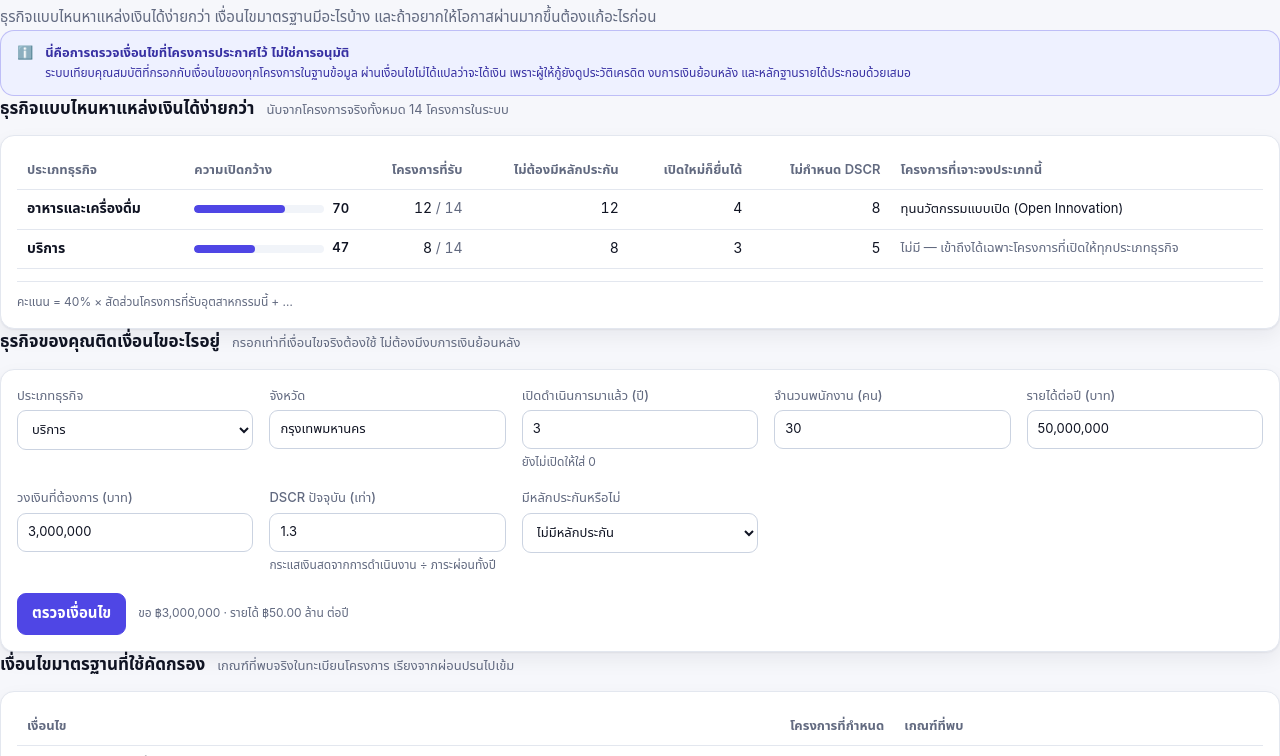
ผลรวมและรายโครงการ › บอกเหตุผลรายข้อของโครงการที่ยังไม่ผ่าน ไม่ใช่แค่ว่าไม่ผ่าน
Click the button "ตรวจเงื่อนไข". click: (72, 614)
box: [17, 593, 126, 635]
(page scrolled)
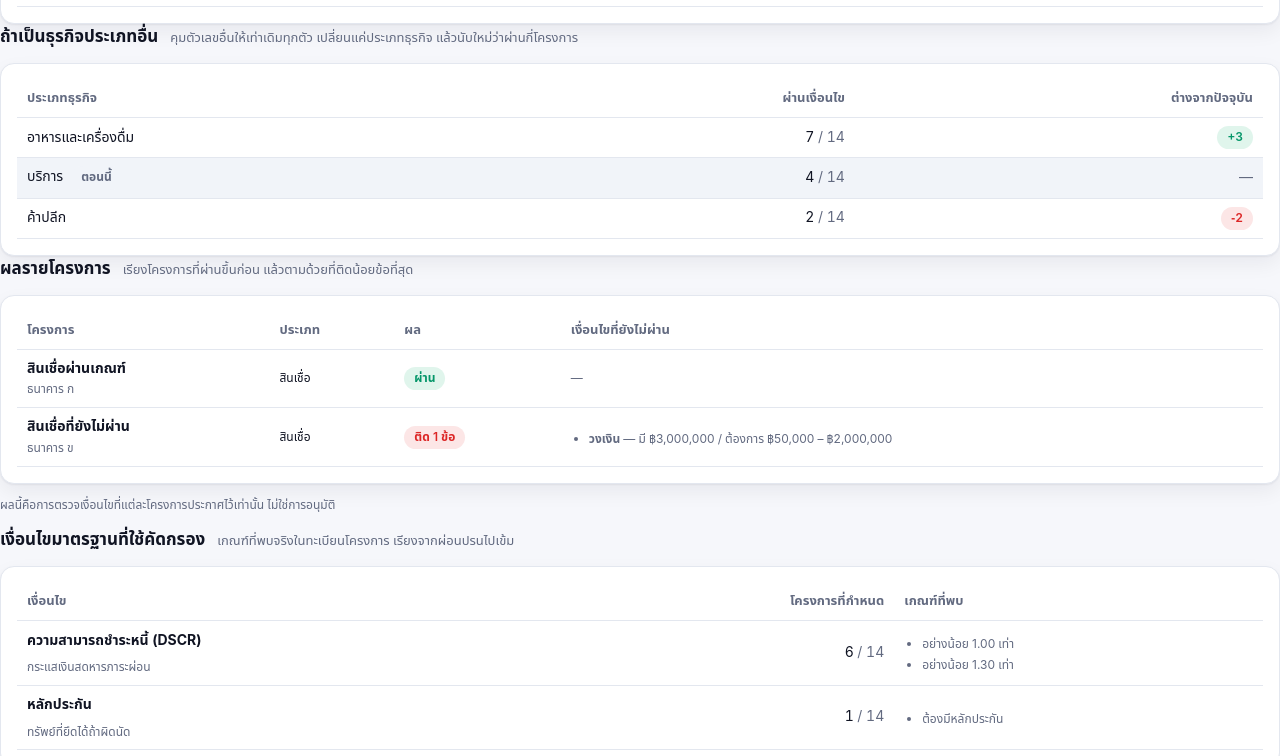
expect the text "ไม่กำหนด" is not shown: met
expect the list item "วงเงิน — มี ฿3,000,000 / ต้องการ ฿50,000 – ฿2,000,000" is shown: met, box [589, 430, 892, 448]
